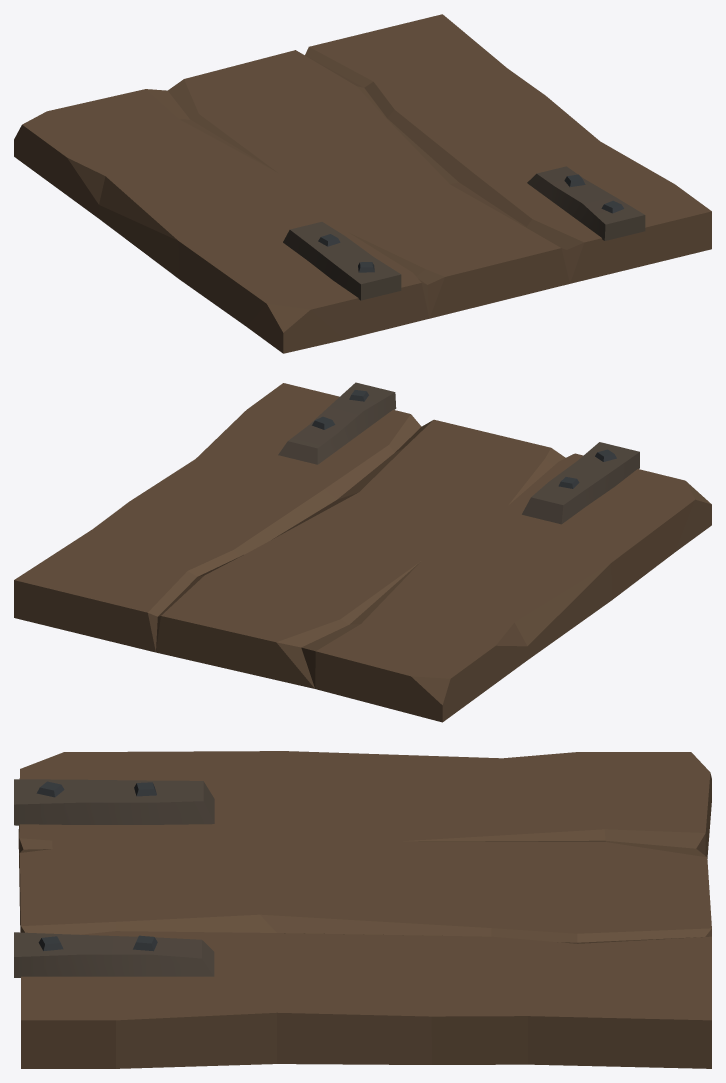
Rendered from kingdom_SM_Prop_Bar_Gate_01_Door.gltf.
3 renders of one model, top to bottom at view 1: azimuth 30°, elevation 25°; view 2: azimuth 150°, elevation 25°; view 3: azimuth 270°, elevation 25°, orthographic. The views are drawn at different scales.
Parts seen in each view (by area): view 1: SM_Prop_Bar_Gate_01_Door; view 2: SM_Prop_Bar_Gate_01_Door; view 3: SM_Prop_Bar_Gate_01_Door.
Part boxes in pixels (x1,y1,x2,y2): SM_Prop_Bar_Gate_01_Door: [14, 14, 711, 353]; SM_Prop_Bar_Gate_01_Door: [14, 382, 711, 722]; SM_Prop_Bar_Gate_01_Door: [14, 751, 711, 1068].
Size of the model in its own units: 0.737 by 0.0943 by 0.8072.
1 material, 1 textured.
